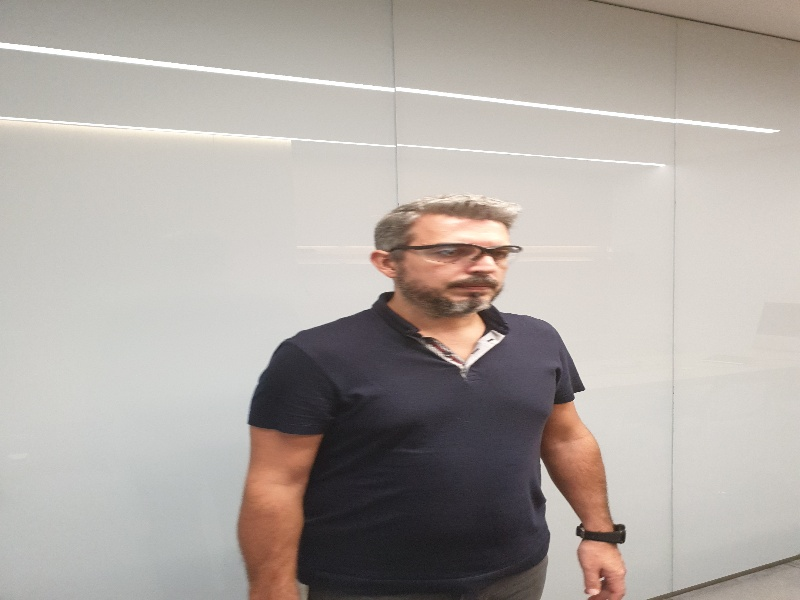Gozluk: (395, 243, 522, 265)
